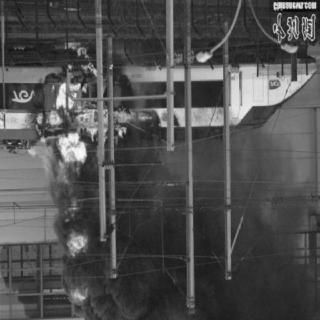Fire: (63, 40, 97, 79), (101, 124, 127, 154)
